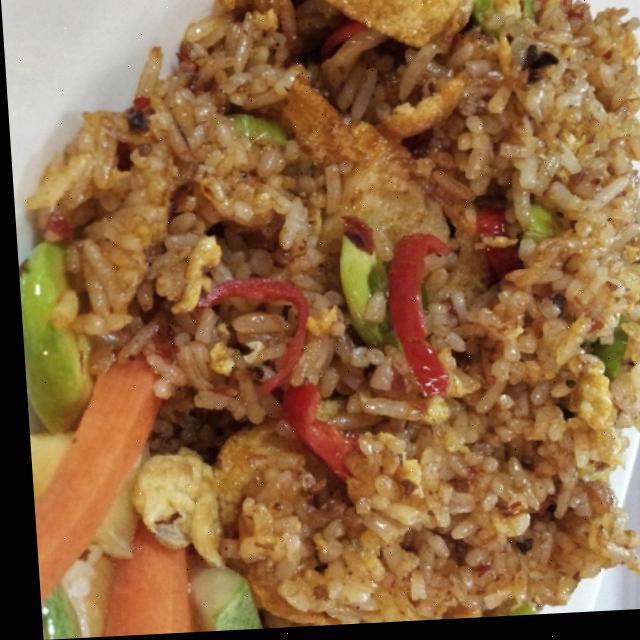米饭主食: (27, 0, 640, 624)
